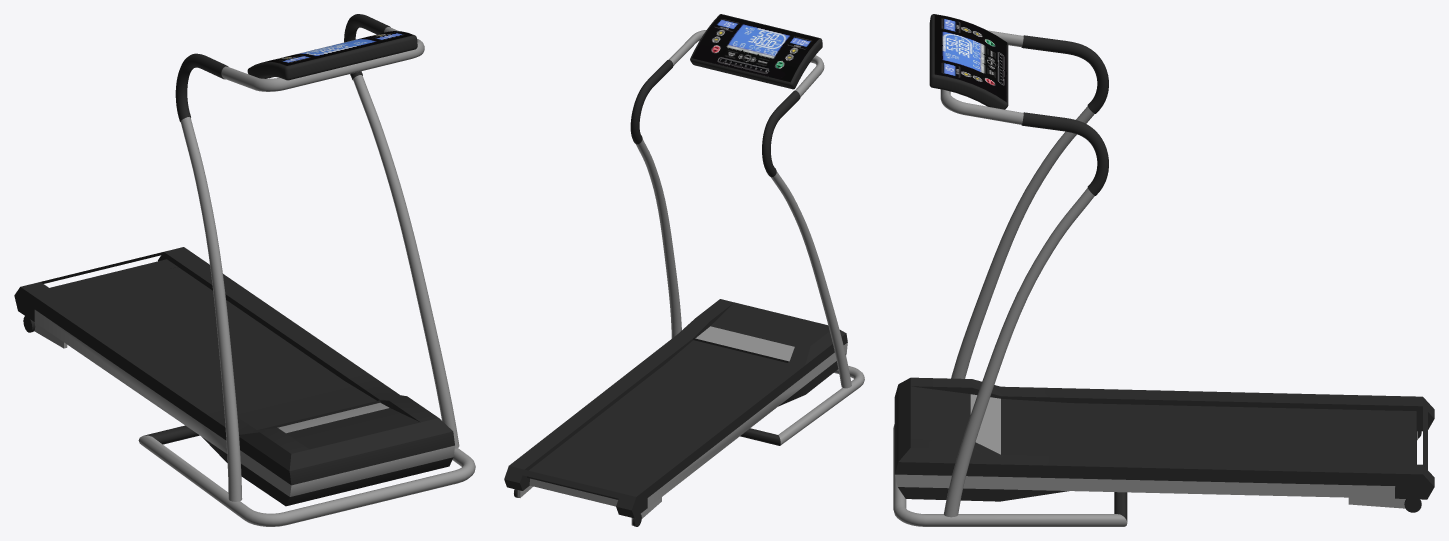
The model's file is Treadmill.FBX.
3 renders of one model, left to right at view 1: azimuth 30°, elevation 25°; view 2: azimuth 150°, elevation 25°; view 3: azimuth 270°, elevation 25°, orthographic. The views are drawn at different scales.
Visible parts, largest first — view 1: Treadmill; view 2: Treadmill; view 3: Treadmill.
Boxes of the visible parts, x1,y1,x2,y2 form: Treadmill: [14, 14, 475, 526]; Treadmill: [504, 14, 864, 526]; Treadmill: [893, 14, 1434, 526].
Size of the model in its own units: 74.75 by 138 by 157.
Materials: 4 (1 with a texture image).
